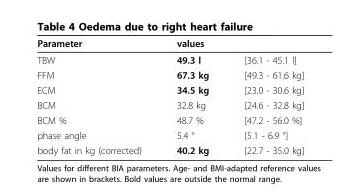table: (36, 37, 303, 155)
table column: (36, 37, 158, 155), (225, 37, 303, 155), (158, 37, 225, 155)
table column header: (36, 37, 303, 51)
table row: (36, 51, 303, 67), (36, 67, 303, 82), (36, 82, 303, 97), (36, 97, 303, 112), (36, 112, 303, 127), (36, 127, 303, 142), (36, 37, 303, 51), (36, 142, 303, 155)
